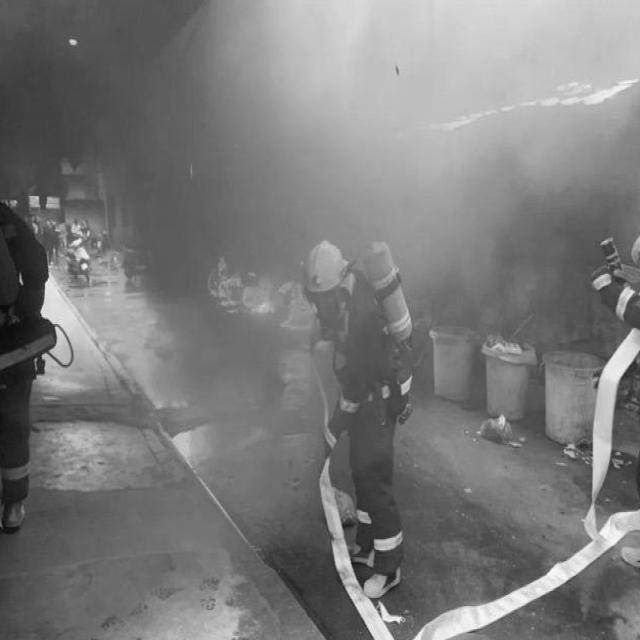smoke: (204, 250, 317, 331)
